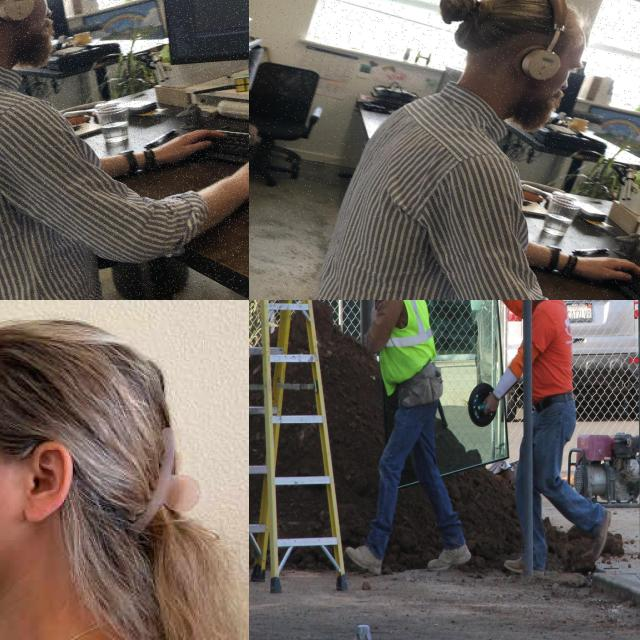Ear-protection: (422, 0, 621, 141), (0, 0, 87, 96)
No_Ear-Protection: (22, 438, 78, 524)
face_nomask: (520, 300, 551, 309)
hand_noglove: (480, 390, 500, 426)
person: (346, 300, 468, 574), (482, 300, 582, 564)
shoes: (578, 500, 615, 564), (427, 534, 473, 574), (343, 539, 385, 579)
vest: (373, 300, 435, 389)
